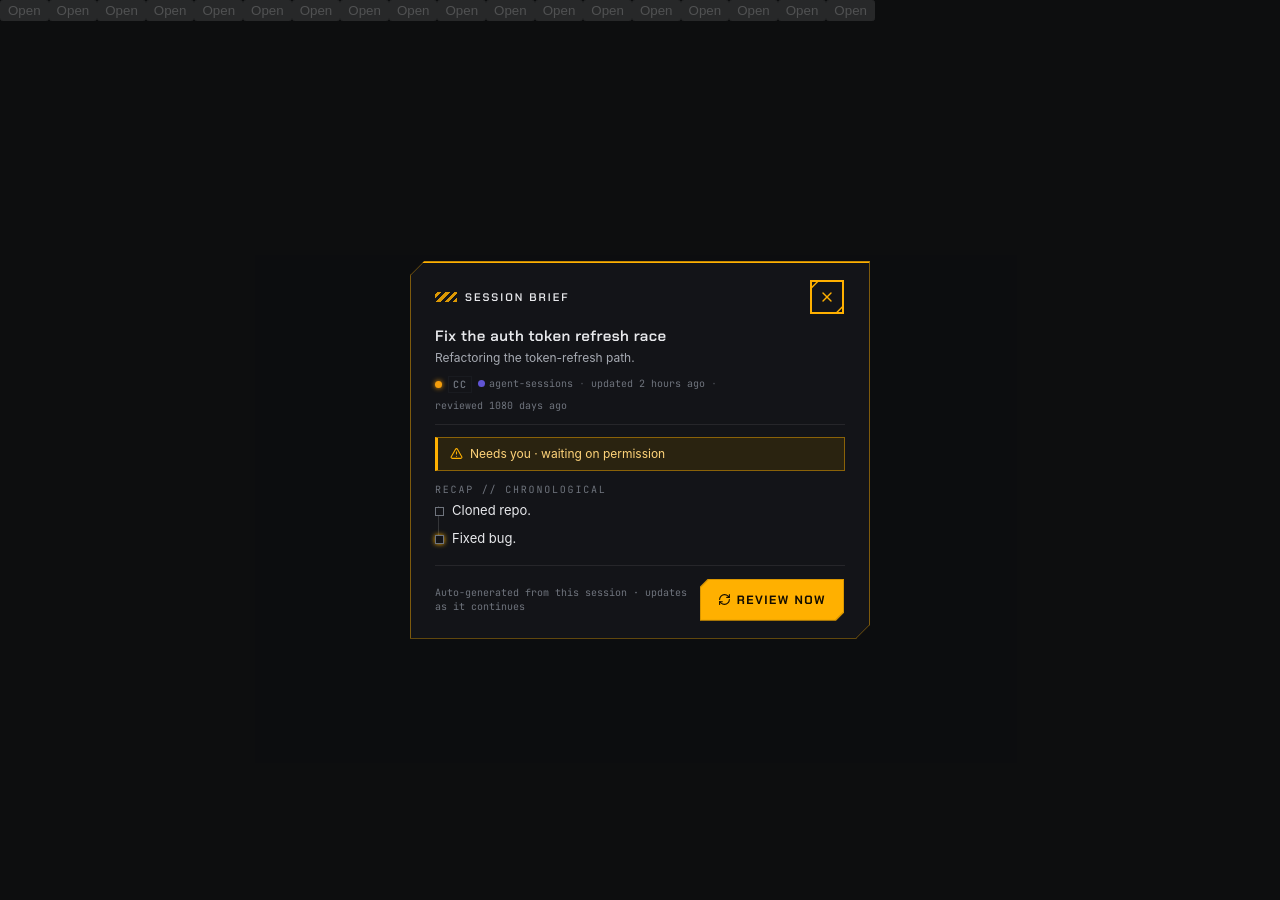
Scenario: 'Review now' clearing intervention drops the attention dot to the row's own state (#745)
Click the button "Review now".
click(772, 600)  # box [699,578,845,622]
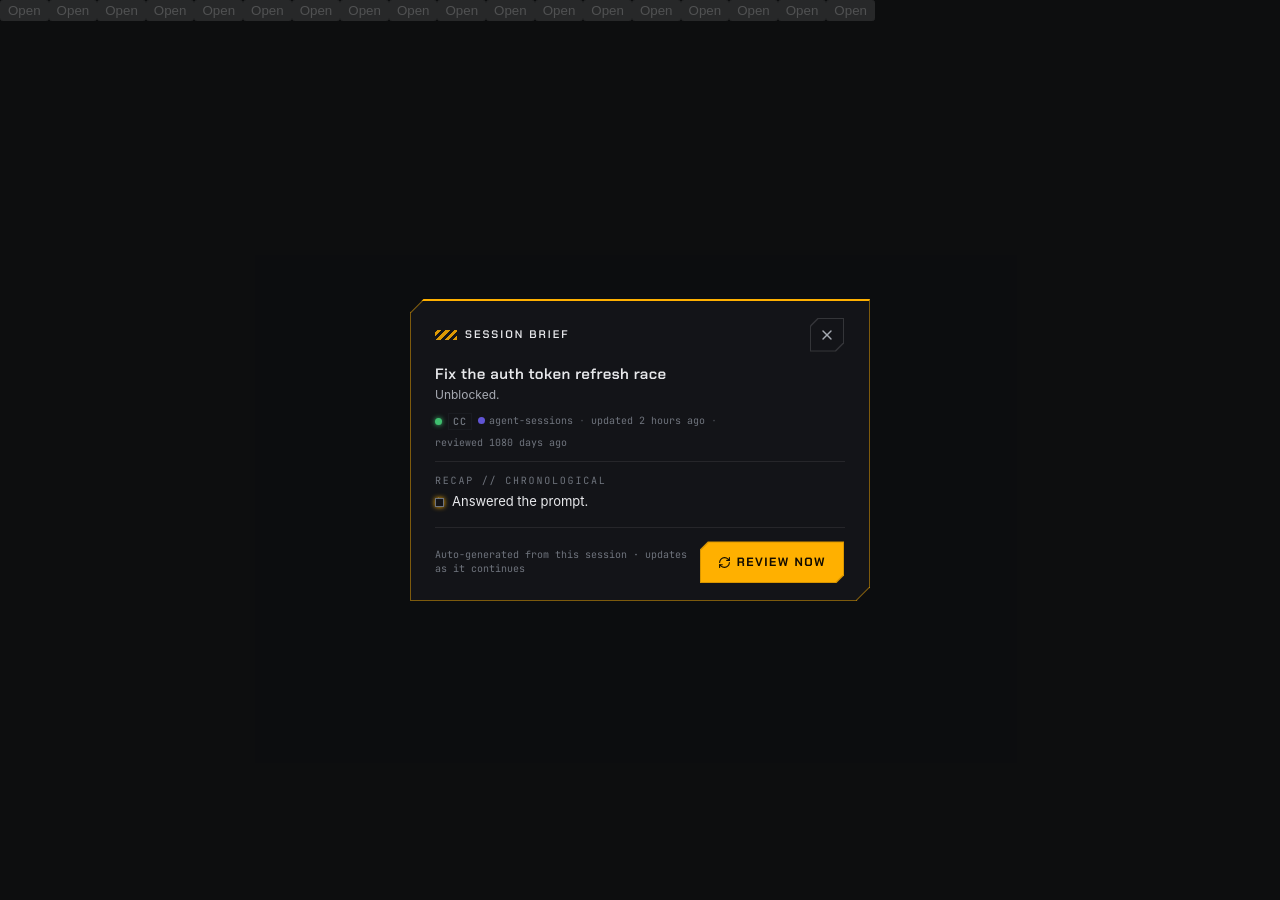
Expected: the text "waiting on permission" is gone
